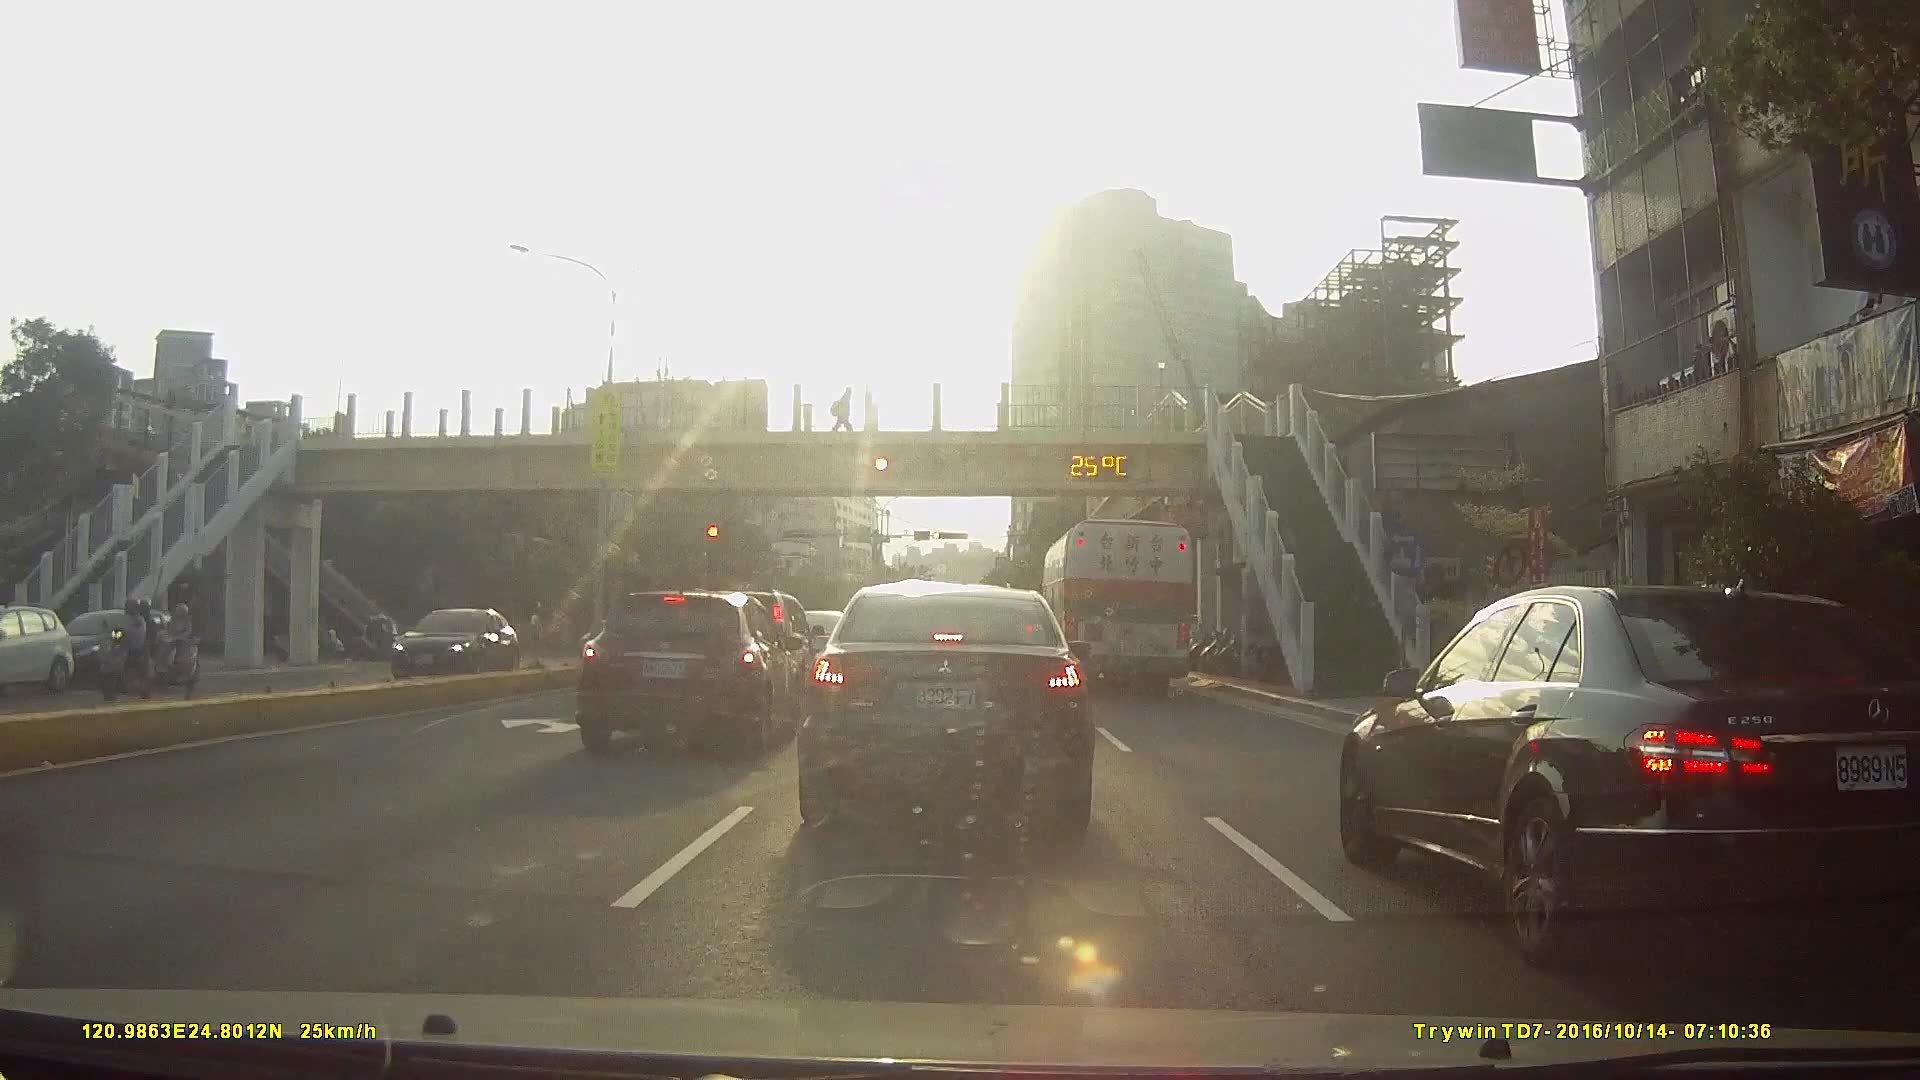pedestrian: (832, 387, 854, 435)
rider: (96, 594, 159, 702), (143, 606, 205, 693), (351, 613, 419, 664)
vehicle: (1333, 582, 1920, 955), (795, 579, 1095, 831), (571, 584, 805, 755), (1039, 516, 1198, 698), (52, 607, 184, 691), (375, 606, 515, 679), (0, 602, 72, 695)
